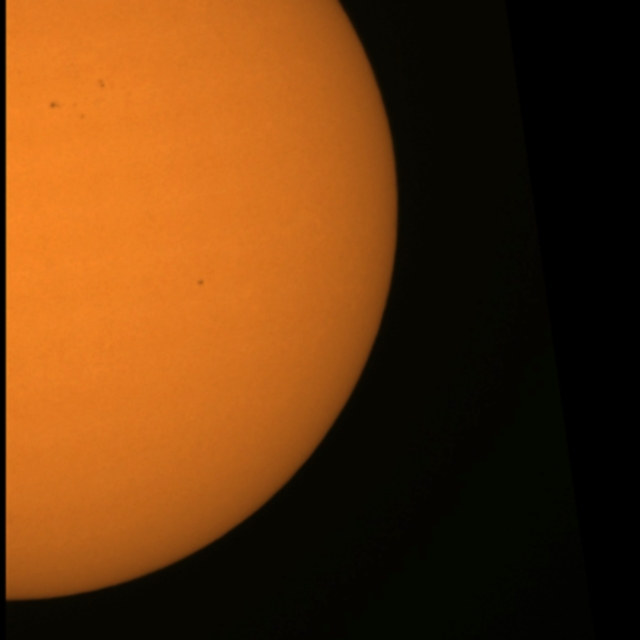sunspot: (48, 99, 88, 121), (47, 99, 62, 111), (96, 77, 107, 91), (195, 277, 206, 288)
